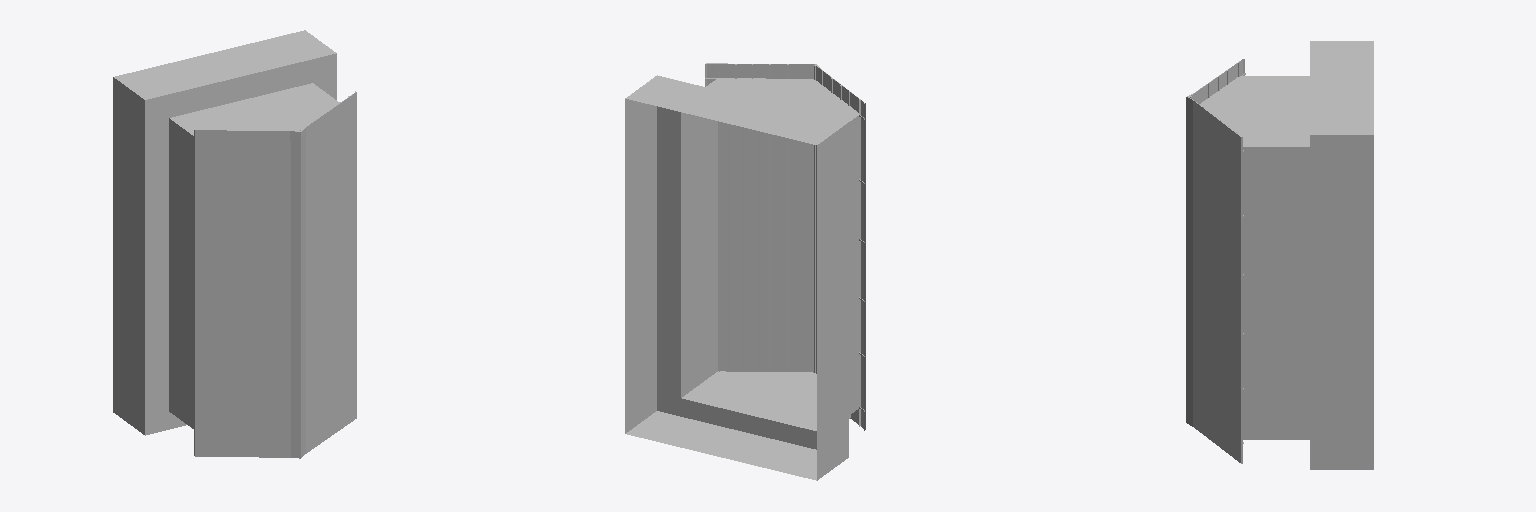
File: old house.obj
3 views of the same model, side by side, from view 1: azimuth 30°, elevation 25°; view 2: azimuth 150°, elevation 25°; view 3: azimuth 270°, elevation 25° (orthographic).
Parts seen in each view (by area): view 1: SAN_RUMAHGEN05; view 2: SAN_RUMAHGEN05; view 3: SAN_RUMAHGEN05.
Boxes of the visible parts, box(x1,y1,x2,y2) form: SAN_RUMAHGEN05: box(113, 30, 356, 458); SAN_RUMAHGEN05: box(625, 63, 865, 480); SAN_RUMAHGEN05: box(1186, 41, 1373, 469).
Size of the model in its own units: 9.88 by 16.55 by 8.34.